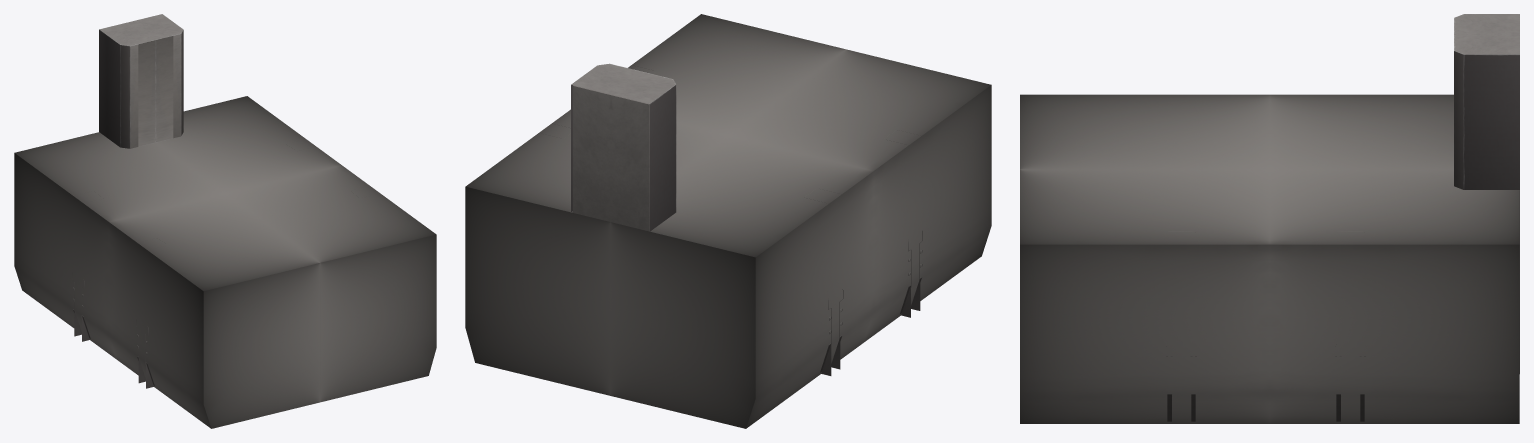
3 renders of one model, left to right at view 1: azimuth 30°, elevation 25°; view 2: azimuth 150°, elevation 25°; view 3: azimuth 270°, elevation 25°, orthographic. The views are drawn at different scales.
Visible parts, largest first — view 1: Object001, elevator001, pillar001; view 2: Object001, elevator001, pillar001; view 3: Object001, elevator001, pillar001.
Part boxes in pixels (x1,y1,x2,y2): Object001: (14,96,436,428); elevator001: (99,14,183,148); pillar001: (72,238,156,388); Object001: (465,14,991,428); elevator001: (571,63,676,231); pillar001: (816,130,922,375); Object001: (1020,94,1519,423); elevator001: (1454,14,1519,373); pillar001: (1166,231,1365,421).
Bounding box in the file's own units: 3507 × 3476 × 4928.
Materials: 2 (2 with a texture image).
